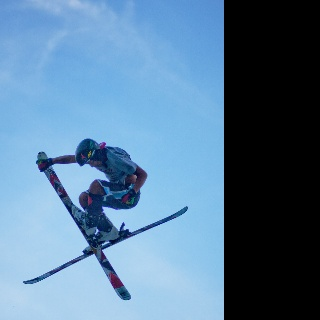without_mask: (86, 159, 102, 167)
